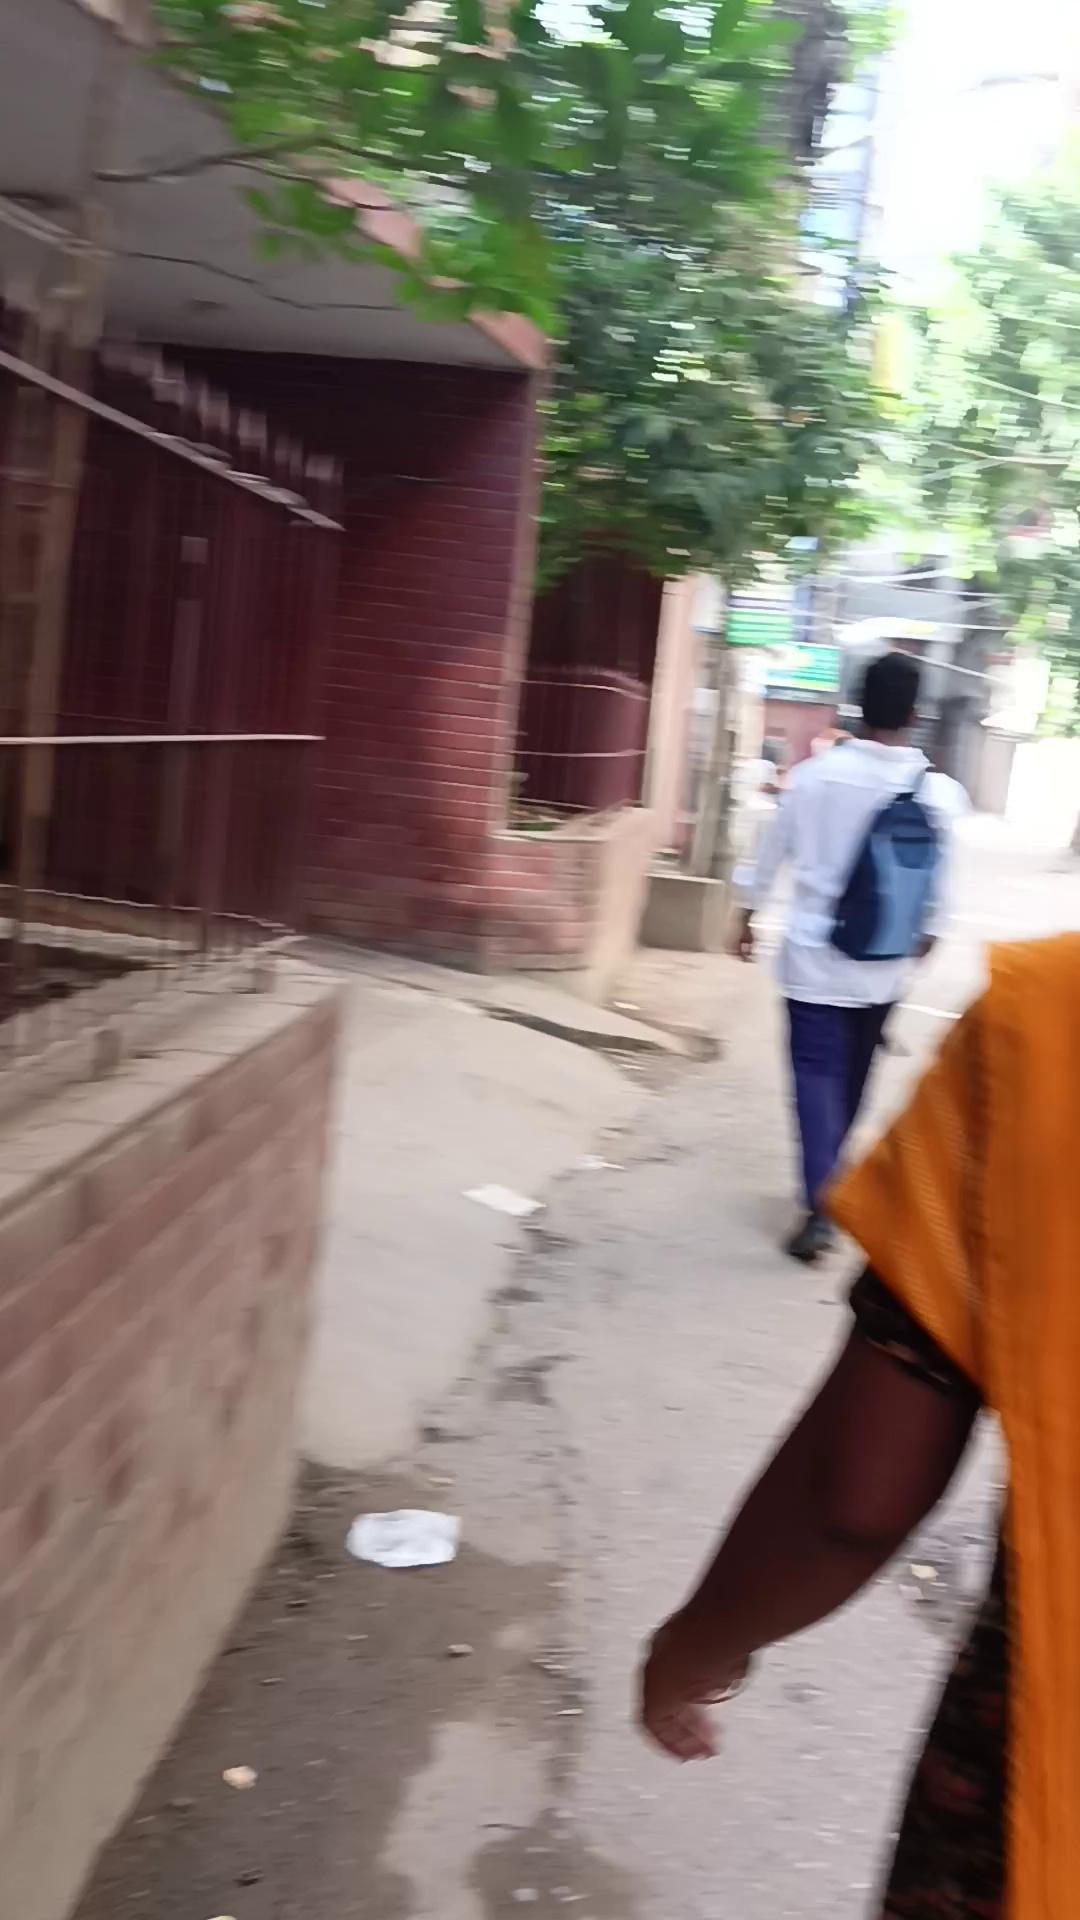Muddy road: (733, 647, 975, 1261)
Potted-plant: (59, 928, 1010, 1916)
Tree: (1, 951, 352, 1915)
